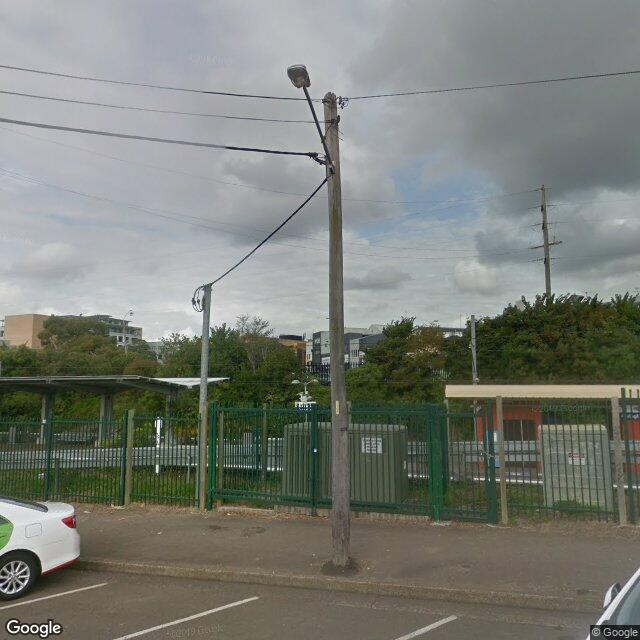HV-transmission: (529, 183, 563, 263)
crossarm: (531, 240, 563, 249)
steel-pole: (198, 284, 213, 511), (470, 314, 478, 385)
streetlight: (288, 64, 334, 174)
timber-pole: (324, 93, 352, 568), (542, 184, 551, 304)
